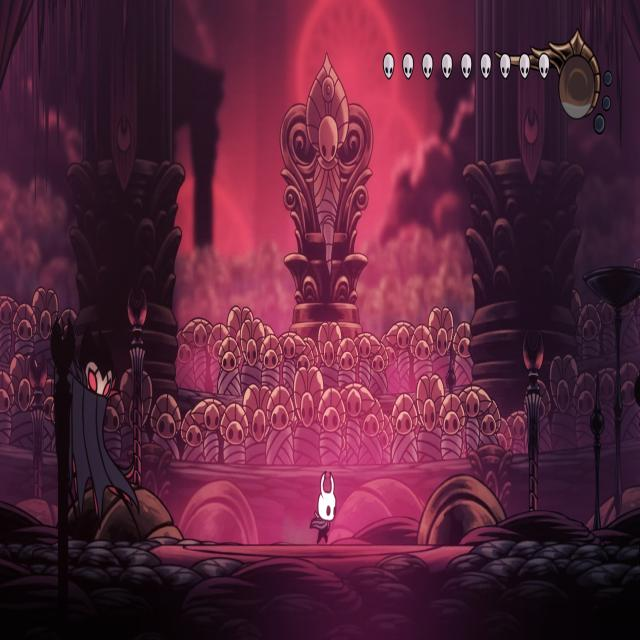Dash Uppercut: (50, 311, 143, 542)
Player: (309, 469, 338, 548)
